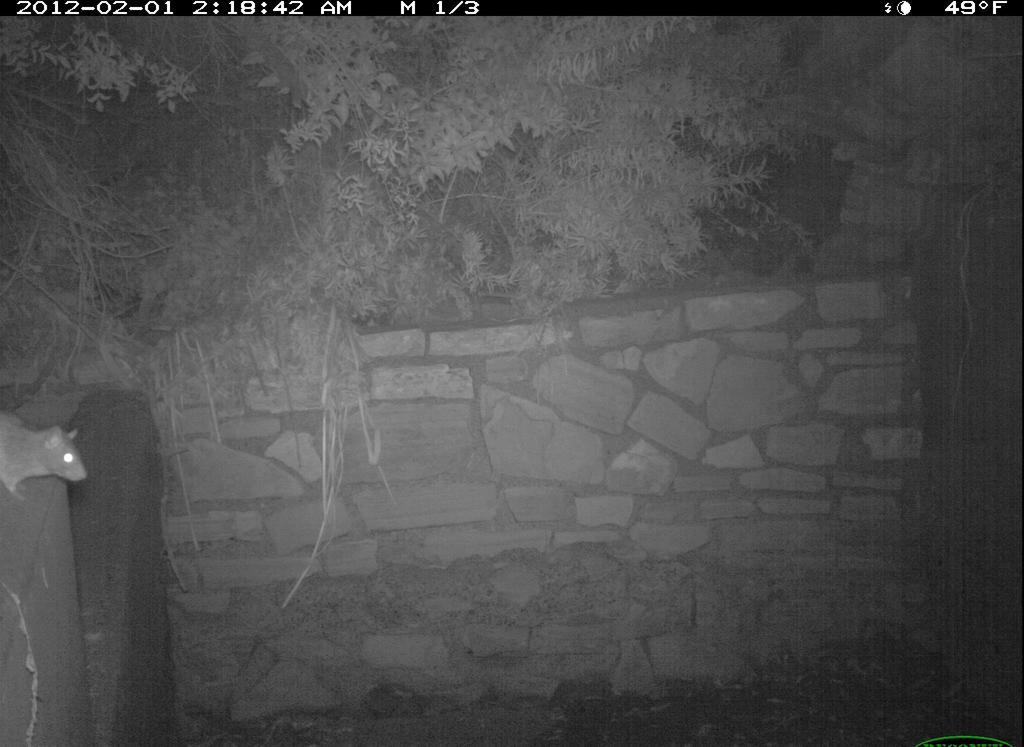rodent: (1, 404, 98, 500)
